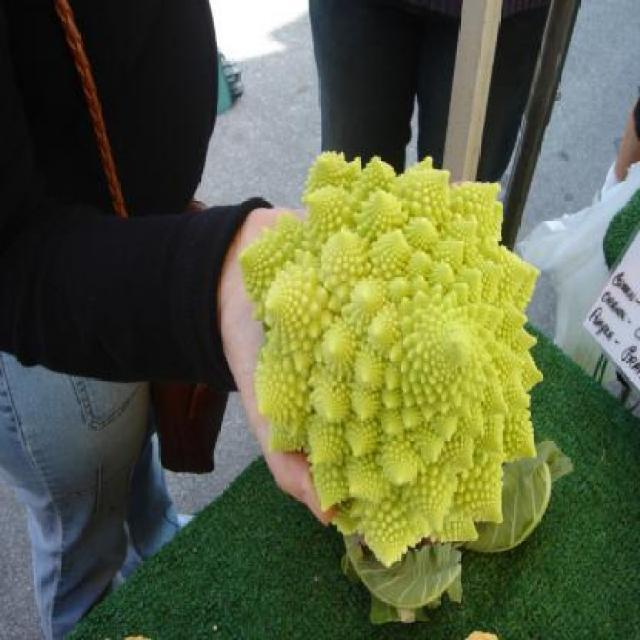Broccoli: (216, 138, 559, 566)
